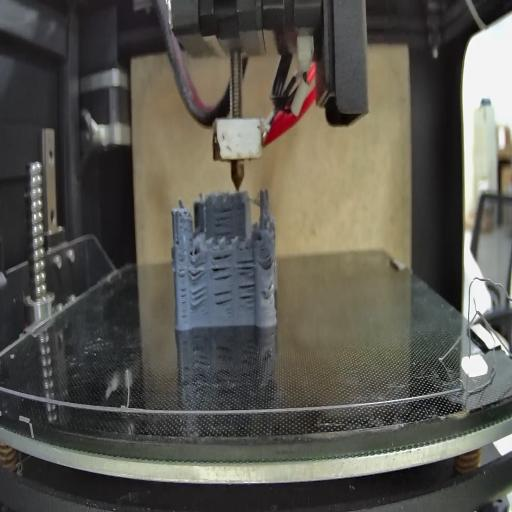cracks: (213, 206, 234, 242), (177, 256, 188, 322), (211, 253, 235, 281), (239, 282, 257, 312), (192, 284, 210, 312), (214, 290, 234, 315), (187, 258, 207, 282), (237, 254, 255, 277), (261, 248, 274, 271), (176, 235, 183, 248), (268, 281, 273, 296)
